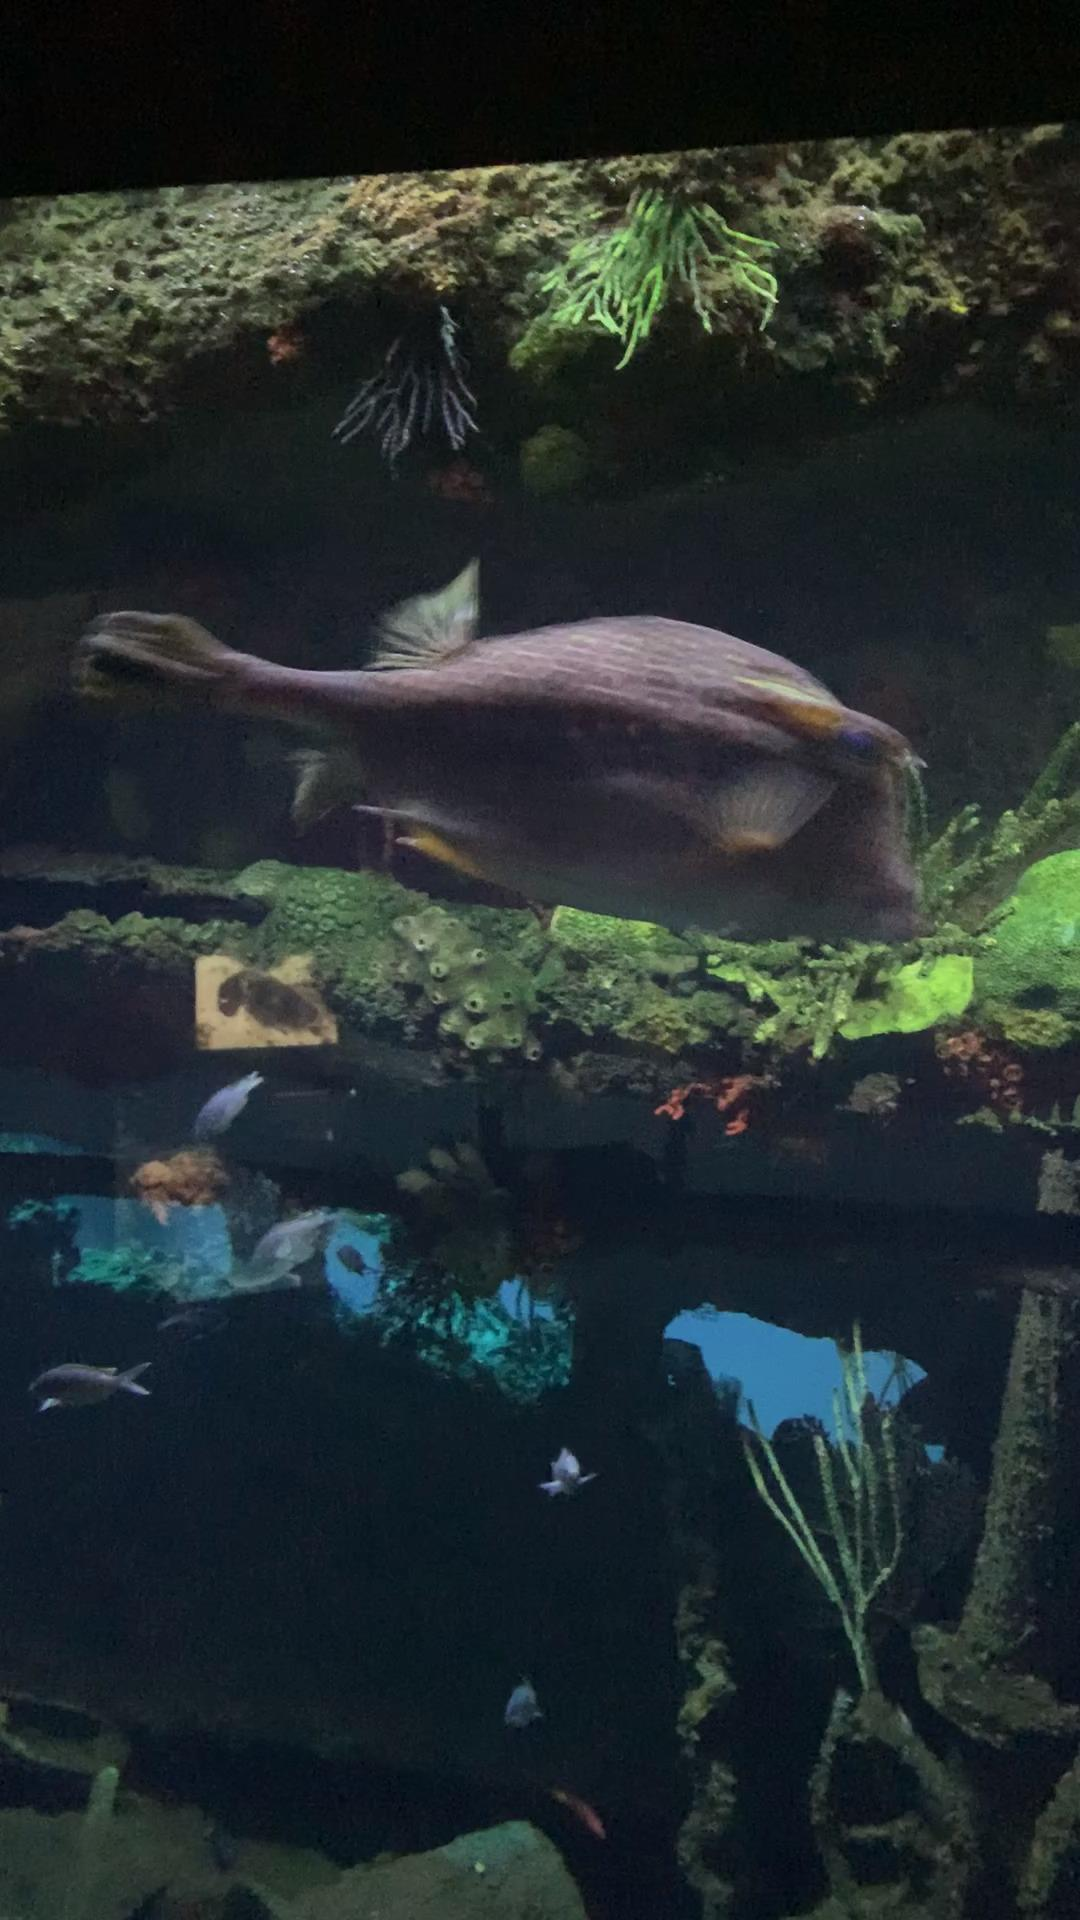fish: (69, 558, 928, 942), (220, 1203, 342, 1305), (25, 1356, 156, 1418), (190, 1068, 266, 1150), (546, 1779, 609, 1849), (538, 1441, 600, 1505), (500, 1671, 546, 1733)
